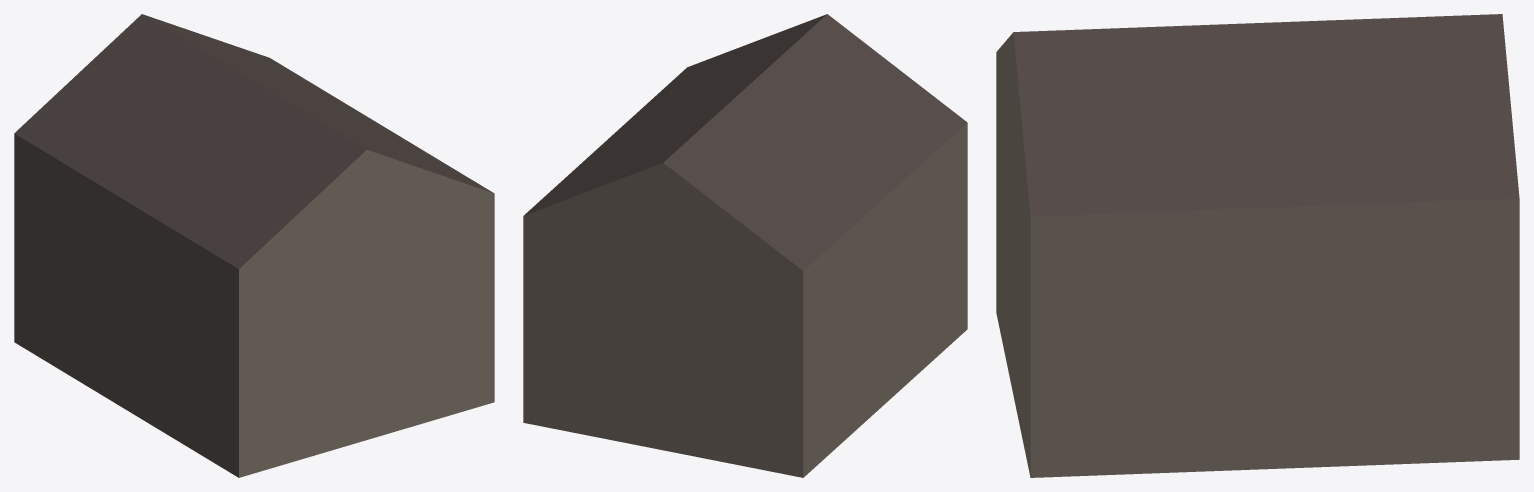
3 views of the same model, side by side, from view 1: azimuth 30°, elevation 25°; view 2: azimuth 150°, elevation 25°; view 3: azimuth 270°, elevation 25° (orthographic). The views are drawn at different scales.
Parts seen in each view (by area): view 1: HP-w859424255; view 2: HP-w859424255; view 3: HP-w859424255.
Boxes of the visible parts, x1,y1,x2,y2 form: HP-w859424255: (14, 14, 494, 477); HP-w859424255: (523, 14, 967, 477); HP-w859424255: (996, 14, 1519, 477).
Bounding box in the file's own units: 8.99 × 8.35 × 10.89.
